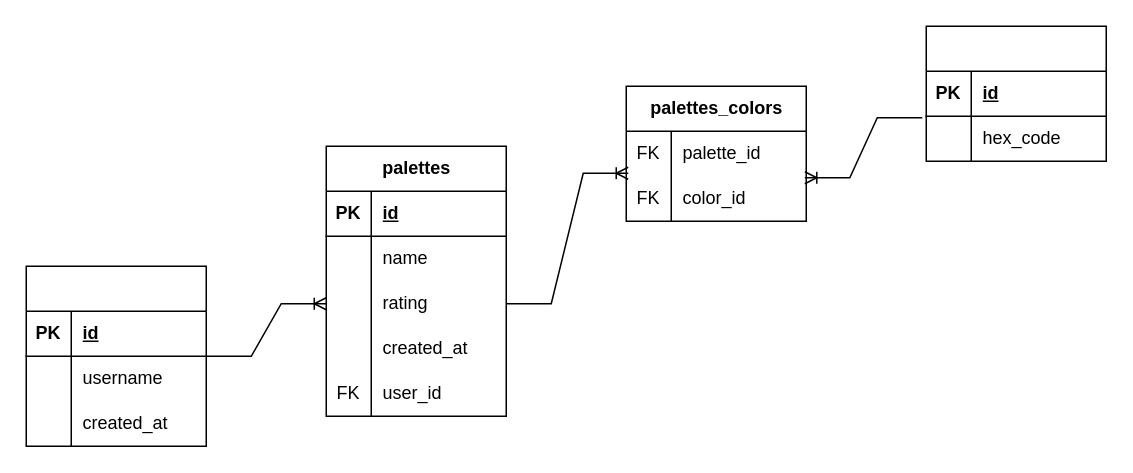
This 1133x473 diagram has some shape labels left out. The shapes that lost their labels are listed below. From the top down, each one's box as (x1, y1, x2, y2) in pixels, then its label:
(925, 25, 1106, 161): colors
(25, 265, 206, 446): users
